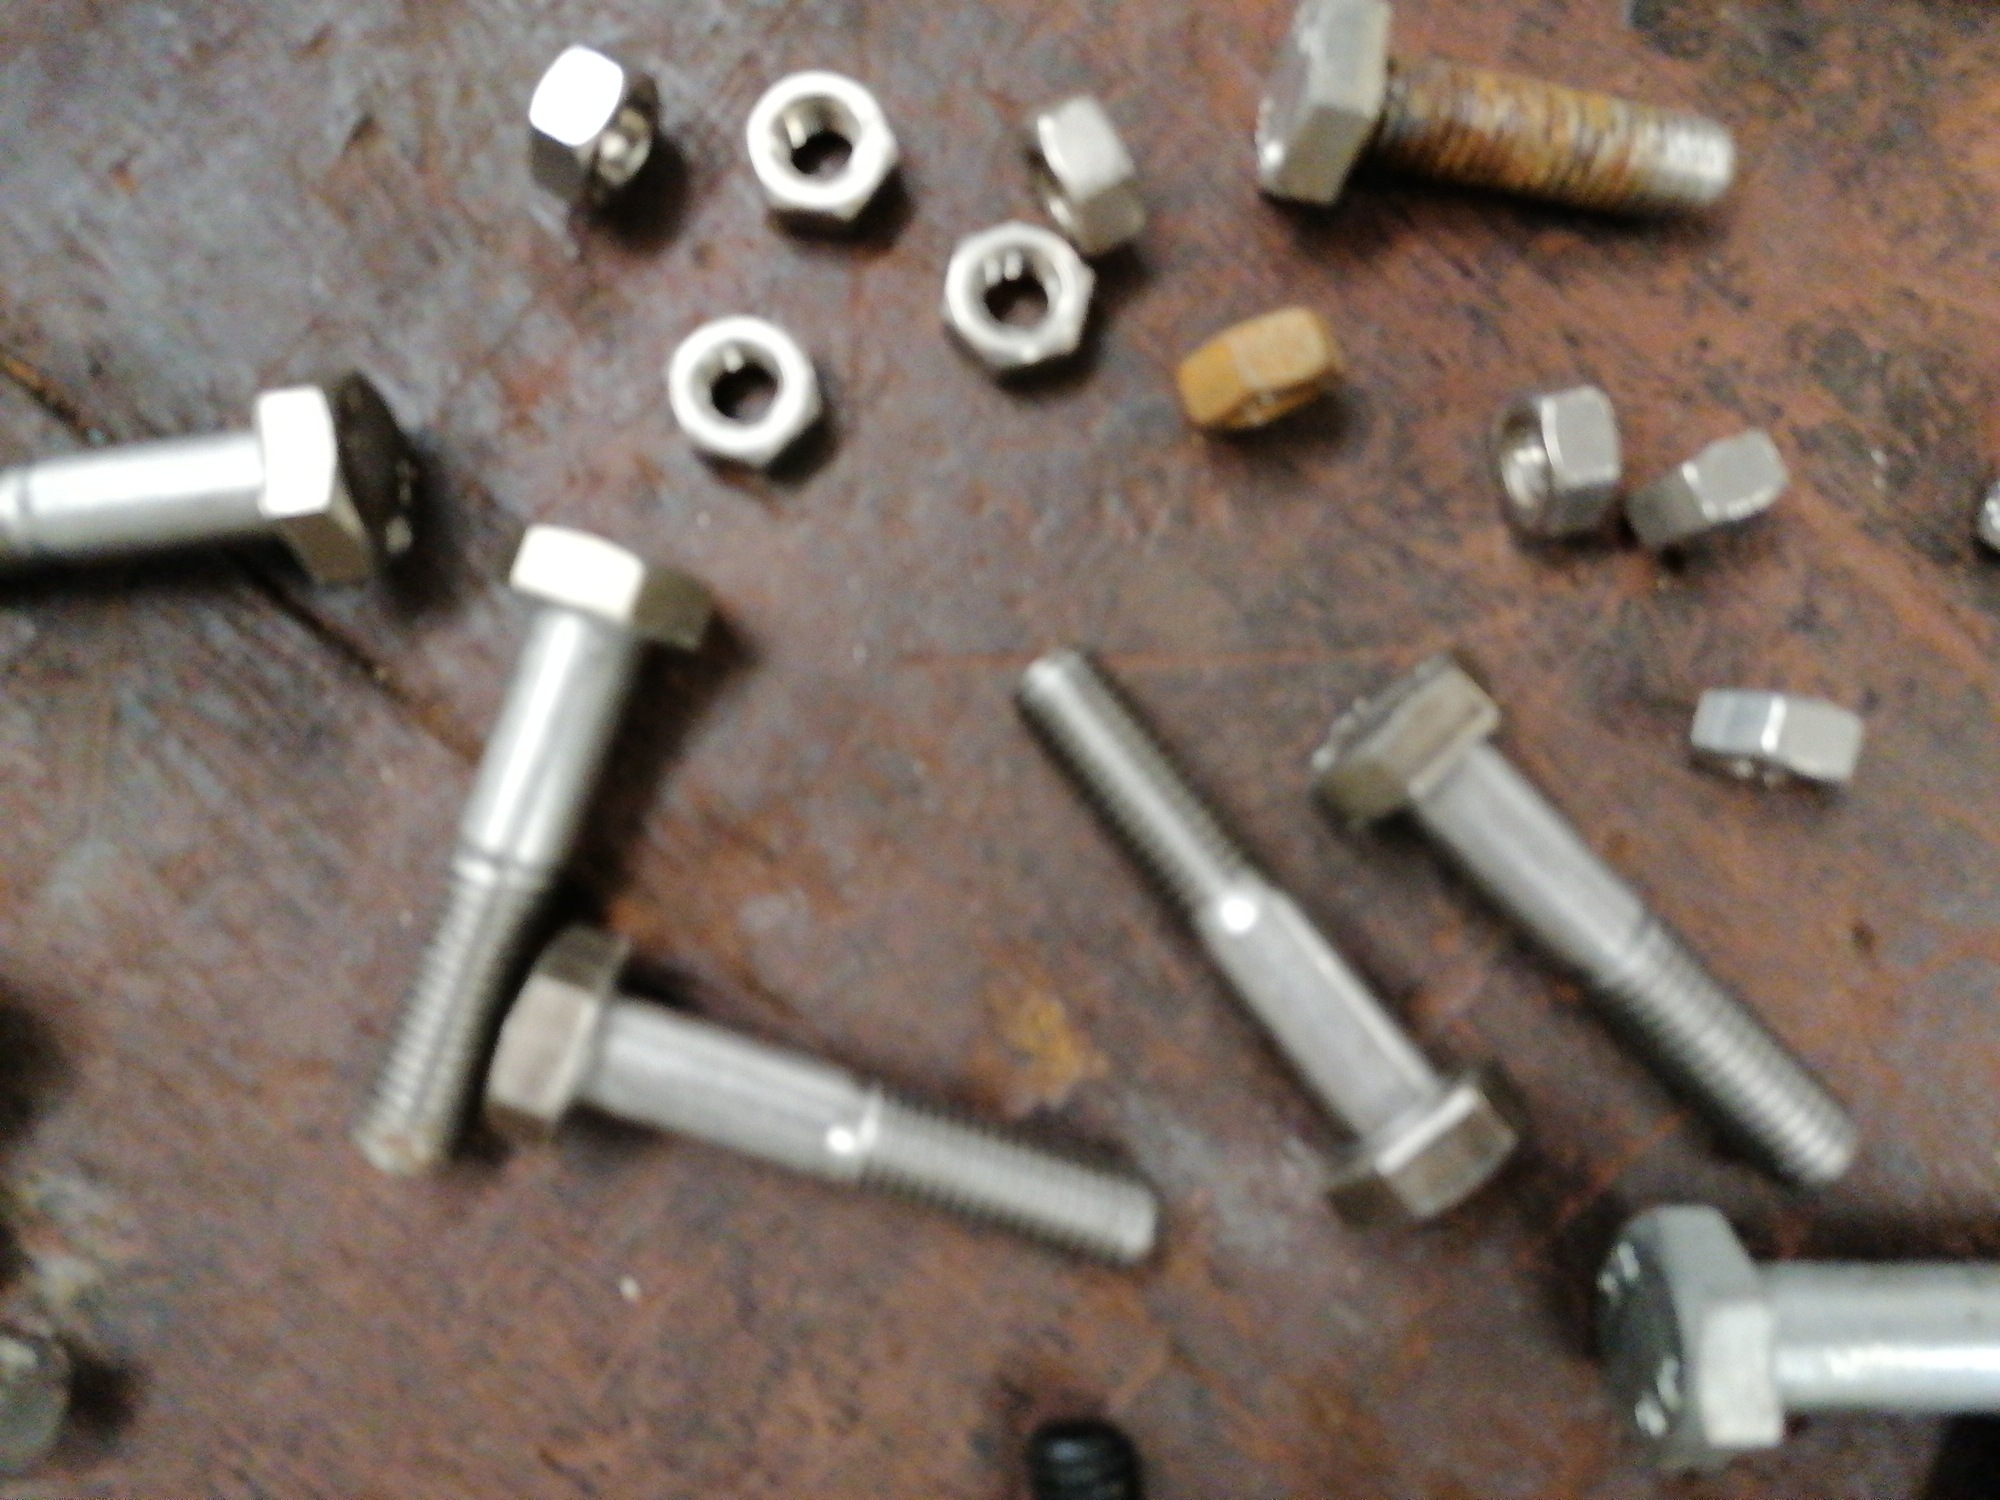bolt: (1008, 640, 1528, 1231), (1312, 652, 1858, 1197), (345, 522, 721, 1183), (476, 925, 1164, 1281), (1584, 1204, 1998, 1470), (1252, 2, 1737, 227), (3, 367, 417, 588)
nut: (734, 61, 910, 238), (658, 306, 828, 477), (515, 39, 668, 214), (939, 214, 1098, 377), (1616, 424, 1794, 558), (1013, 87, 1146, 262), (1173, 303, 1348, 435), (1490, 375, 1620, 548), (1683, 676, 1869, 793)
